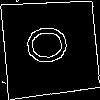O: (25, 23, 77, 66)
